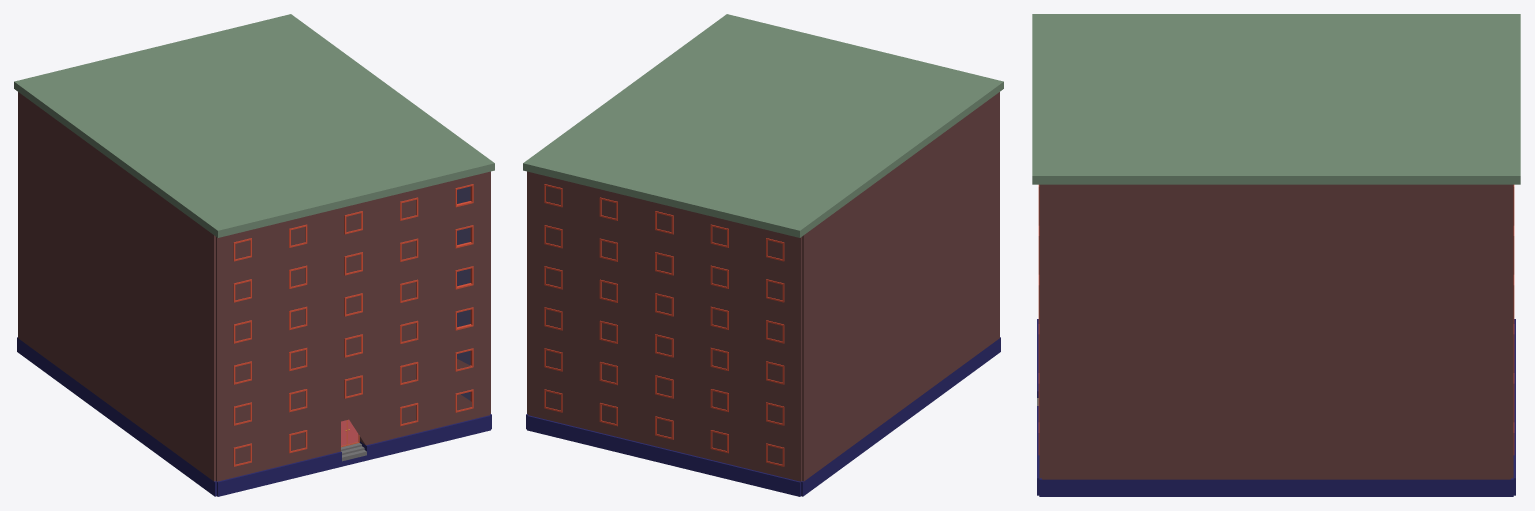
3 views of the same model, side by side, from view 1: azimuth 30°, elevation 25°; view 2: azimuth 150°, elevation 25°; view 3: azimuth 270°, elevation 25° (orthographic). The views are drawn at different scales.
Visible parts, largest first — view 1: BR20_F06_01; view 2: BR20_F06_01; view 3: BR20_F06_01.
Part boxes in pixels (left/top/right/bottom): BR20_F06_01: left=14, top=14, right=494, bottom=496; BR20_F06_01: left=523, top=14, right=1003, bottom=496; BR20_F06_01: left=1032, top=14, right=1520, bottom=496.
Size of the model in its own units: 2000 by 1850 by 2550.
